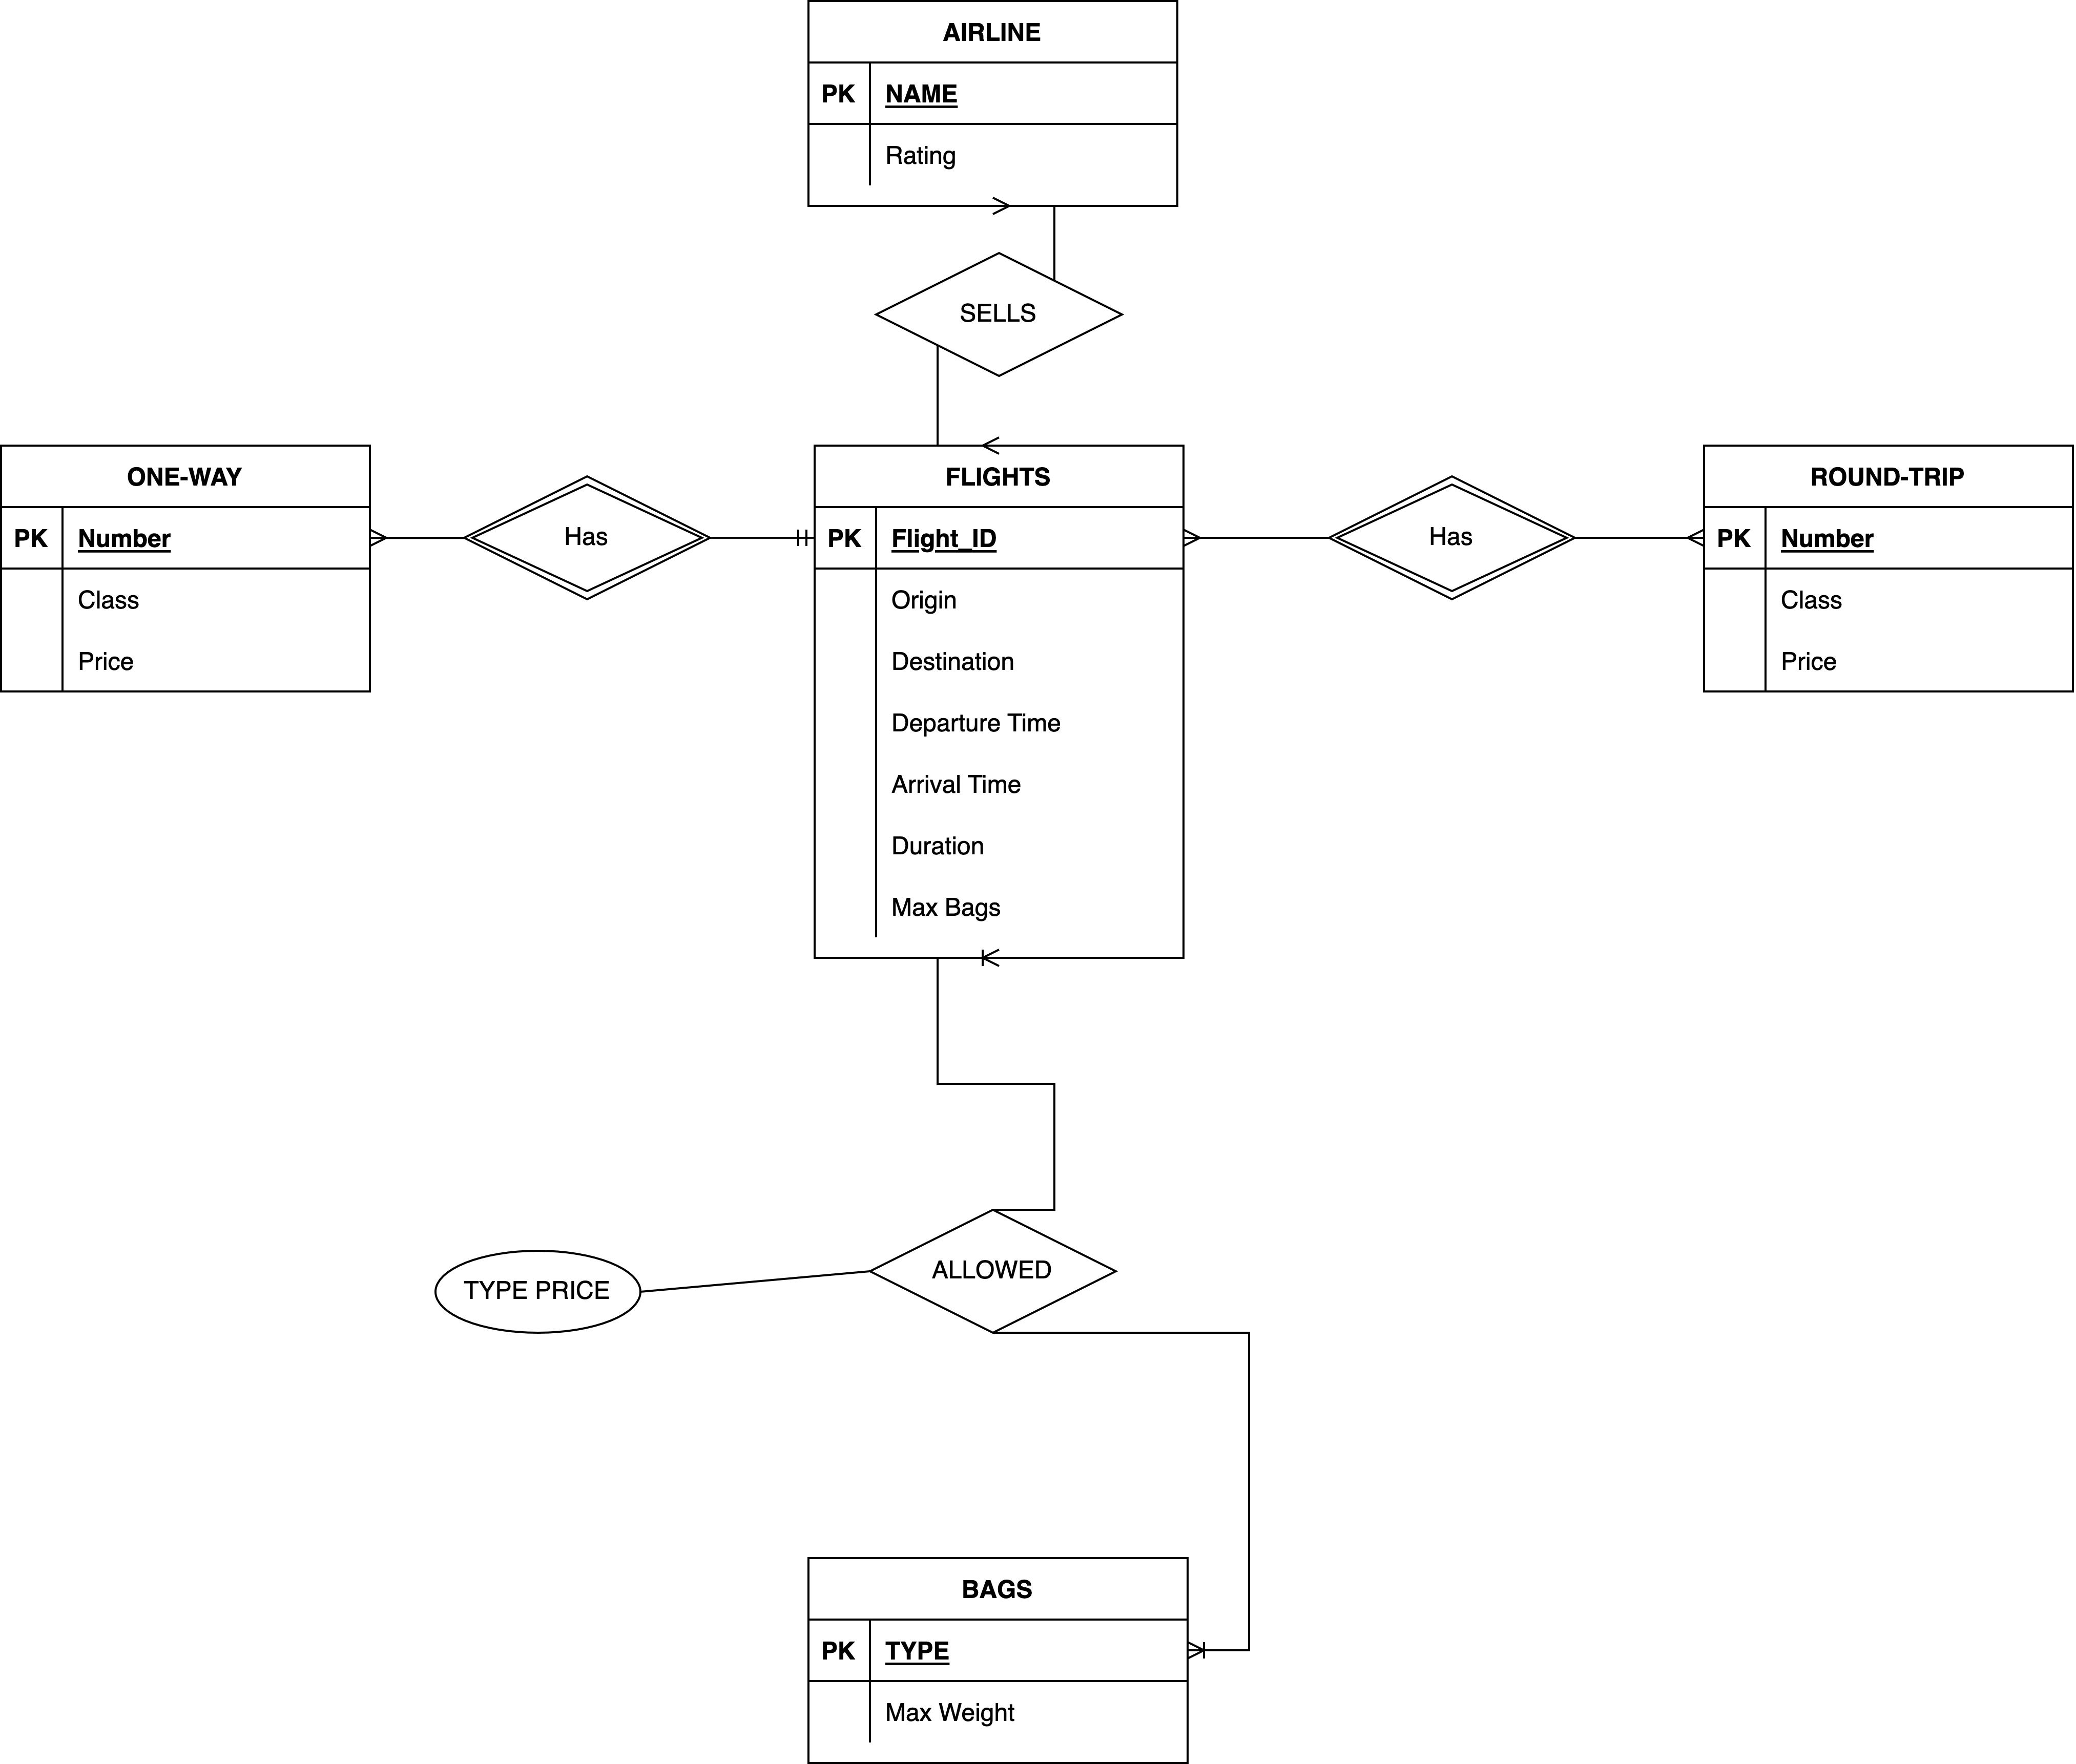attribute: (436, 1251, 646, 1333)
entity: (809, 439, 1189, 961), (1700, 436, 2076, 698), (0, 436, 373, 691), (802, 1552, 1203, 1764), (803, 0, 1187, 212)
relationship: (880, 250, 1126, 380), (877, 1207, 1112, 1335)
weakrelationship: (1329, 469, 1575, 602), (467, 476, 704, 600)
